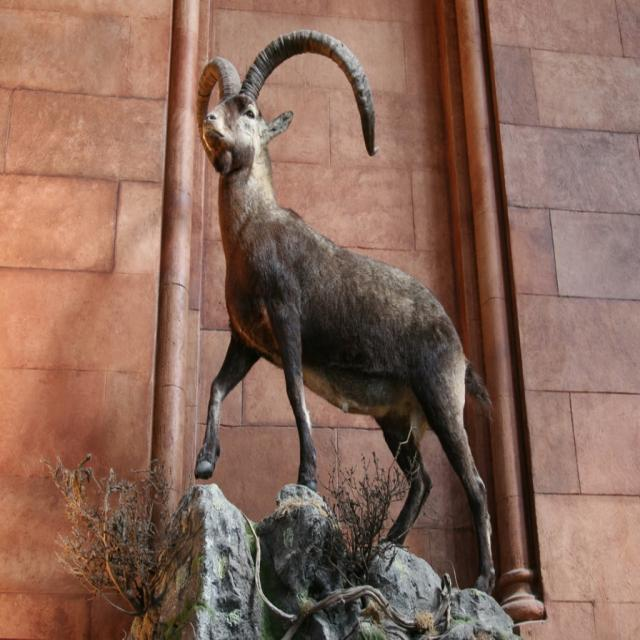Goat: (192, 27, 497, 595)
